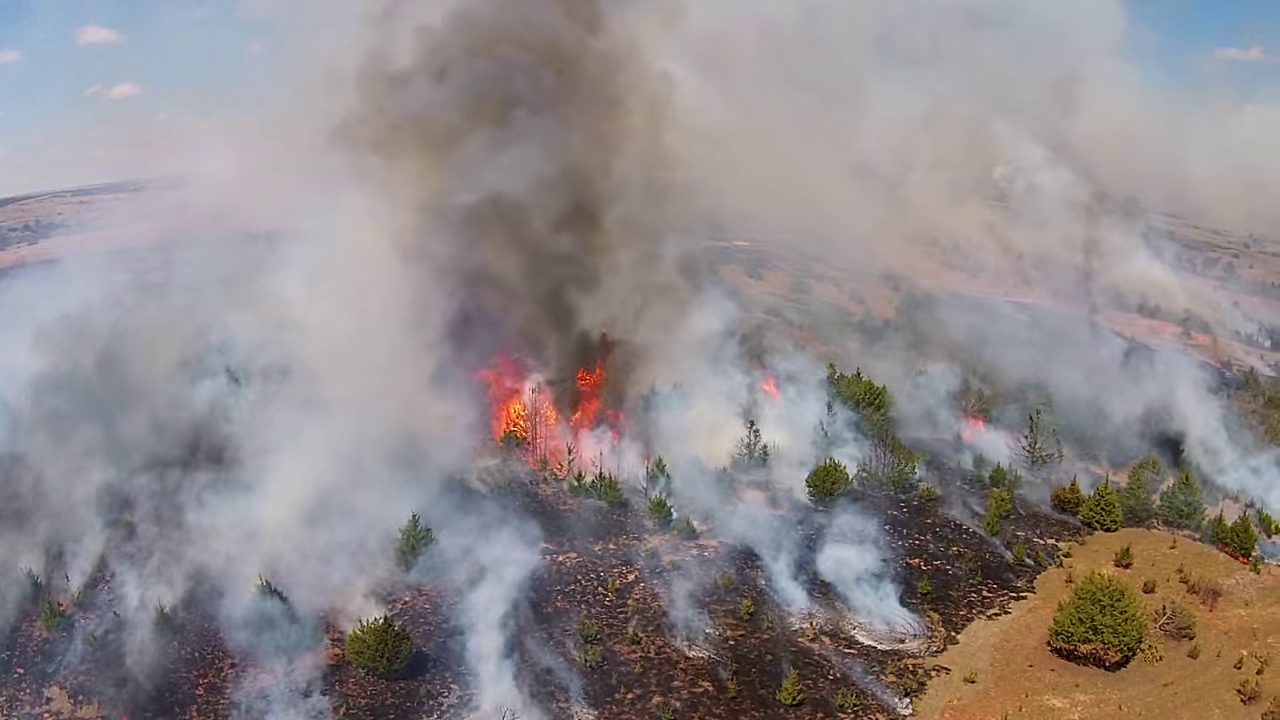forest_fire: (481, 352, 624, 455), (958, 415, 987, 442), (761, 375, 780, 399)
